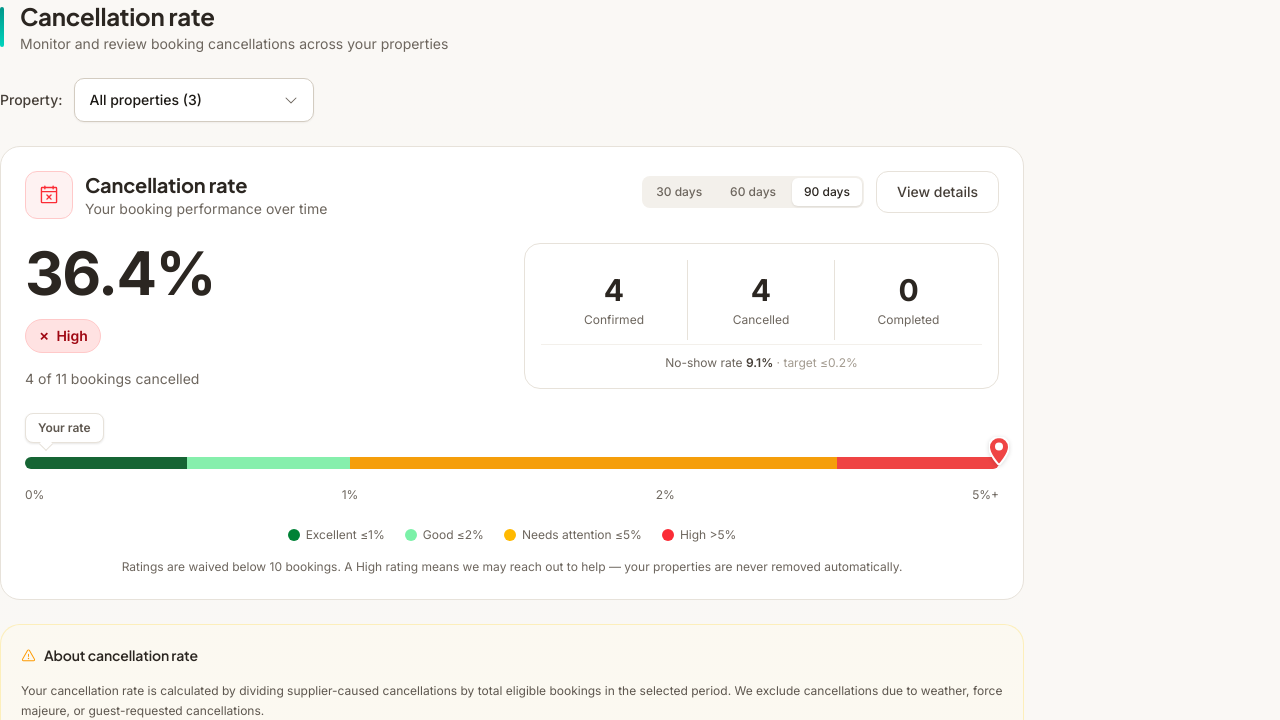
Test: StaysCancellationPage — experiences-parity cancellation page › opens the details modal with the summary strip
Click the button "View details" at [938, 192], box [876, 171, 999, 213]
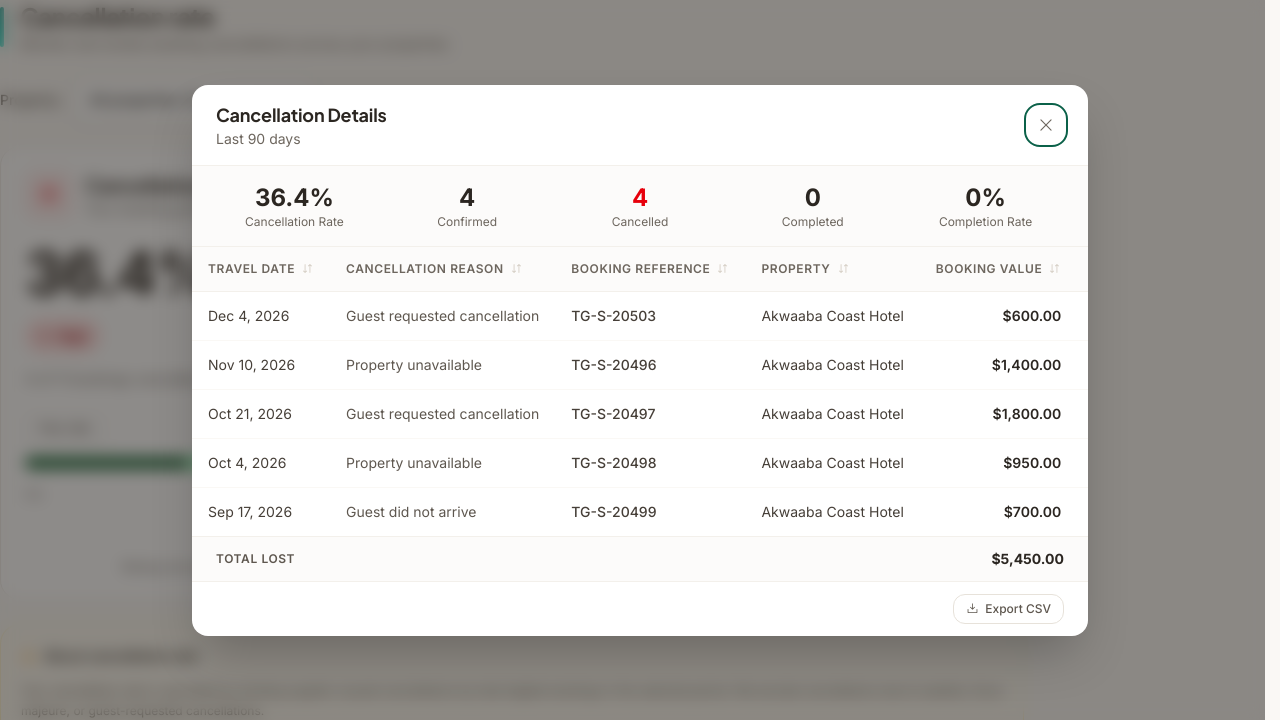
Expected: the text "Completion Rate" is shown, [939, 214, 1032, 228]
Expected: the text "Cancellation Rate" is shown, [245, 214, 344, 228]
Click the button named "Close" at [1046, 124], box [1028, 106, 1064, 142]
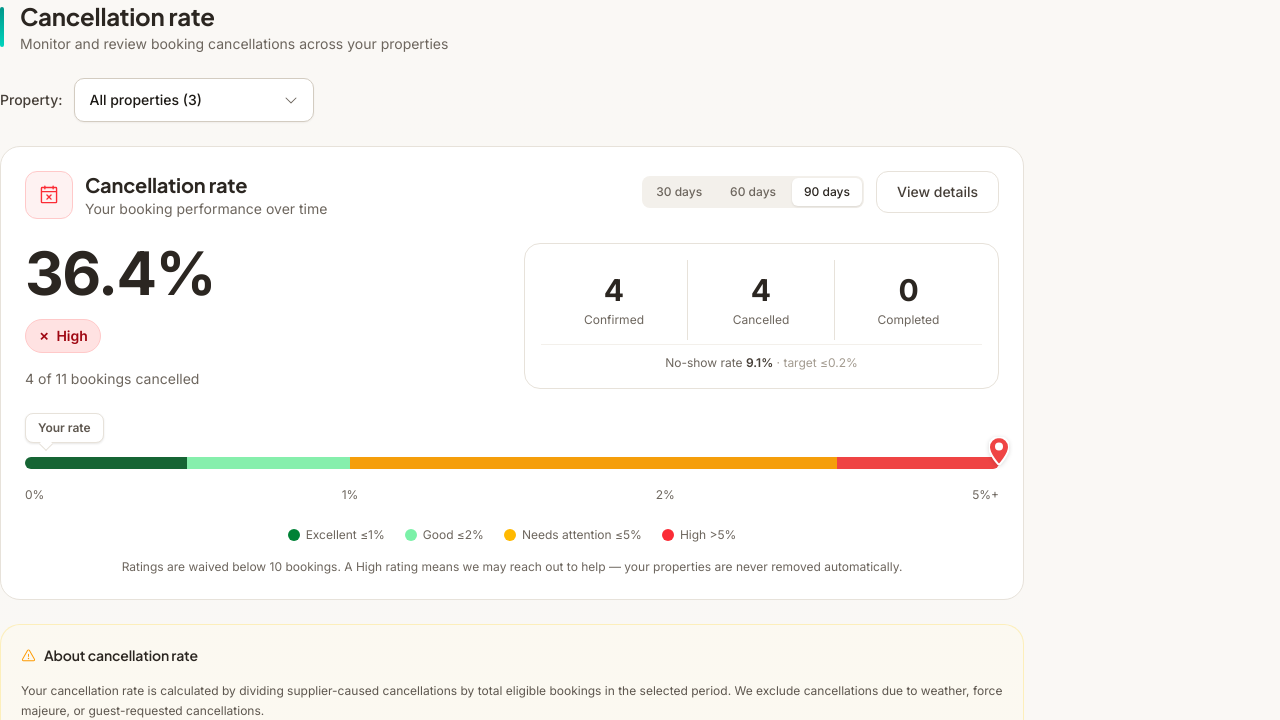
Expected: the dialog is gone
